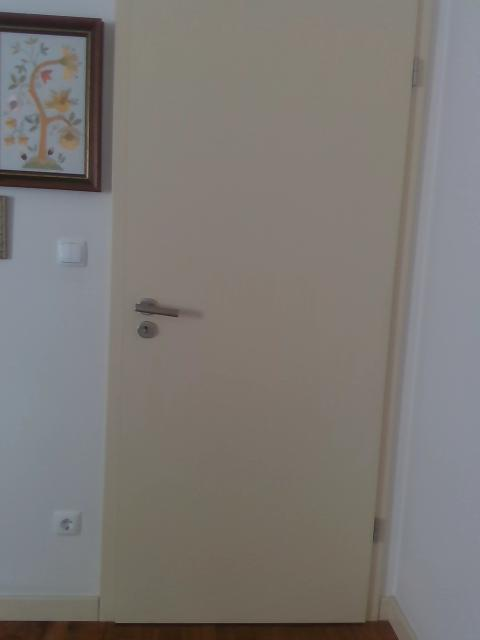door: (115, 1, 419, 625)
